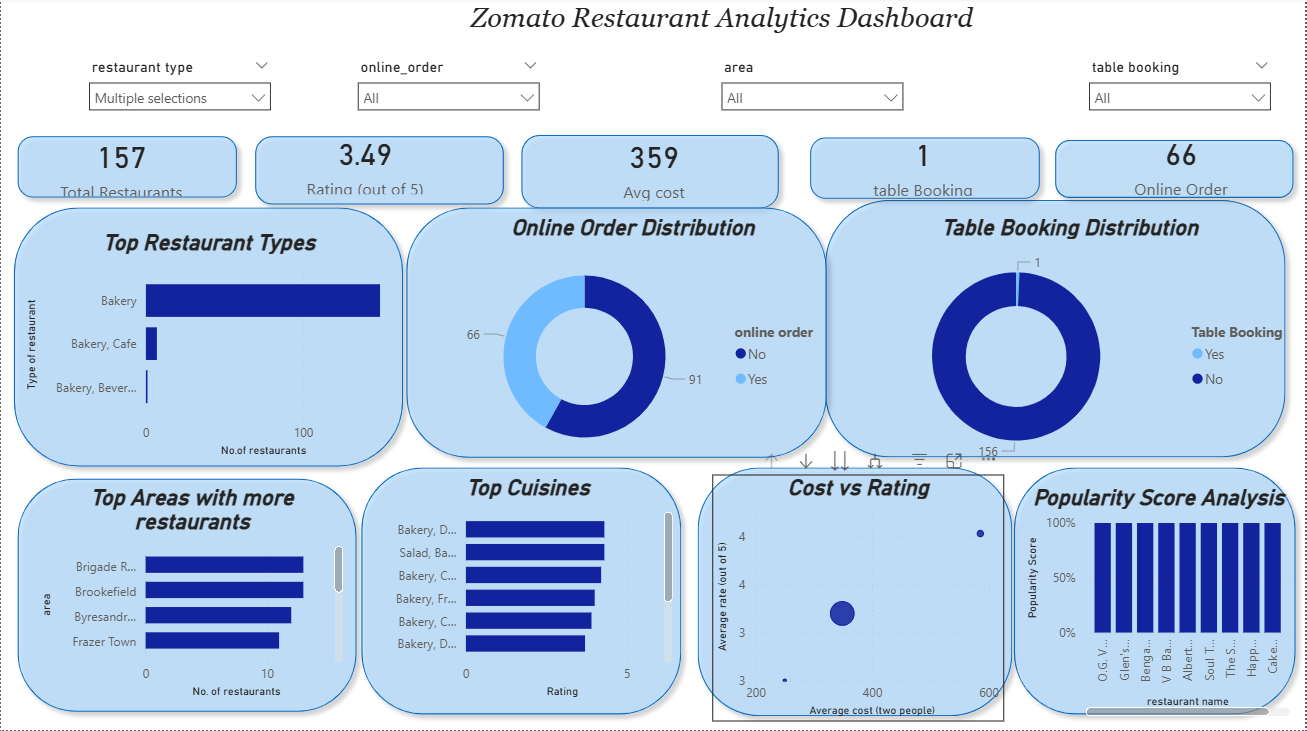

The dashboard page shown, as its layout file describes it:
{"tool":"powerbi","page":{"name":"Zomato Analytics Dashboard","canvas":[1280,720],"ordinal":0},"visuals":[{"type":"group","id":"g1","title":"Group 1","box":[3.4,126.5,1275.9,588.3],"z":1000},{"type":"barChart","title":"Most Common Restaurant Types","fields":{"Y":["CountNonNull(cleaned_zomato.restaurant name)"],"Category":["cleaned_zomato.restaurant type"]},"box":[20,228.1,369.2,228.1],"z":4000},{"type":"donutChart","title":"Restaurants Offering Online Orders","fields":{"Category":["cleaned_zomato.online_order"],"Y":["CountNonNull(cleaned_zomato.restaurant name)"]},"box":[420.5,213.8,399.1,255.1],"z":5000},{"type":"donutChart","title":"Restaurants Offering Table Booking","fields":{"Category":["cleaned_zomato.table booking"],"Y":["CountNonNull(cleaned_zomato.restaurant name)"]},"box":[819.6,213.8,459,255.1],"z":7000},{"type":"barChart","title":"Areas with Highest Restaurant Density","fields":{"Category":["cleaned_zomato.area"],"Y":["CountNonNull(cleaned_zomato.restaurant name)"]},"box":[34.2,478.9,306.5,213.8],"z":9000},{"type":"shape","box":[800,190.6,469.8,270.6],"z":10000,"group":"g1"},{"type":"barChart","title":"Most Popular Cuisines","fields":{"Y":["Median(cleaned_zomato.rate (out of 5))"],"Category":["cleaned_zomato.cuisines type"]},"box":[370.6,469,293.6,223.8],"z":10000},{"type":"shape","box":[6.8,464.5,350.6,246.8],"z":10500,"group":"g1"},{"type":"shape","box":[1025.7,131.6,251.9,74.9],"z":11000,"group":"g1"},{"type":"scatterChart","title":"Relationship Between Cost and Rating","fields":{"X":["Avg(cleaned_zomato.avg cost (two people))"],"Category":["cleaned_zomato.restaurant type","cleaned_zomato.restaurant name"],"Y":["Avg(cleaned_zomato.rate (out of 5))"],"Size":["CountNonNull(cleaned_zomato.num of ratings)"]},"box":[698.4,469,286.5,242.3],"z":11000},{"type":"shape","box":[6.8,127.6,233.2,78.3],"z":12000,"group":"g1"},{"type":"clusteredColumnChart","title":"Top 10 Most Popular Restaurants","fields":{"Category":["cleaned_zomato.restaurant name"],"Y":["cleaned_zomato.Popularity Score Measure"]},"box":[1002,478.9,268,232.3],"z":12000},{"type":"textbox","box":[449.4,0,517.4,69.8],"z":13000},{"type":"shape","box":[784.7,129.3,243.4,78.3],"z":13000,"group":"g1"},{"type":"slicer","fields":{"Values":["cleaned_zomato.area"]},"box":[697.1,54.9,199,76.8],"z":14000},{"type":"shape","box":[240,127.6,262.1,85.1],"z":14000,"group":"g1"},{"type":"shape","box":[3.4,197.3,400,272.3],"z":14500,"group":"g1"},{"type":"slicer","fields":{"Values":["cleaned_zomato.table booking"]},"box":[1058,54.9,199,76.8],"z":15000},{"type":"shape","box":[501.4,126.5,270.6,90.2],"z":15000,"group":"g1"},{"type":"shape","box":[675.1,452.7,326.8,262.1],"z":15250,"group":"g1"},{"type":"shape","box":[344.8,452.7,331.9,260.4],"z":15500,"group":"g1"},{"type":"shape","box":[984.8,452.7,294.5,260.4],"z":15750,"group":"g1"},{"type":"slicer","fields":{"Values":["cleaned_zomato.online_order"]},"box":[340.3,54.9,199,76.8],"z":16000},{"type":"shape","box":[389.1,197.3,430.6,263.8],"z":16000,"group":"g1"},{"type":"card","fields":{"Values":["Count(cleaned_zomato.restaurant name)"]},"box":[1049.1,126.4,198.8,74.8],"z":17000},{"type":"card","fields":{"Values":["Count(cleaned_zomato.restaurant name)"]},"box":[785.3,116.6,240.5,84.7],"z":18000},{"type":"card","fields":{"Values":["Avg(cleaned_zomato.avg cost (two people))"]},"box":[498.2,116.6,287.1,89.6],"z":19000},{"type":"card","fields":{"Values":["CountNonNull(cleaned_zomato.restaurant name)"]},"box":[0,116.6,236.8,84.7],"z":20000},{"type":"card","fields":{"Values":["Avg(cleaned_zomato.rate (out of 5))"]},"box":[236.8,116.6,241.7,82.2],"z":21000},{"type":"slicer","fields":{"Values":["cleaned_zomato.restaurant type"]},"box":[75.5,54.9,199,76.8],"z":22000}]}

Visuals, with their boxes in screenshot pixels (x1, y1, x2, y2), scaled from the page's 1280x720 canvas onto the 1307x731 screenshot:
"Group 1" group: 3 128 1306 726
"Most Common Restaurant Types" barChart: 20 232 397 463
"Restaurants Offering Online Orders" donutChart: 429 217 837 476
"Restaurants Offering Table Booking" donutChart: 837 217 1306 476
"Areas with Highest Restaurant Density" barChart: 35 486 348 703
shape: 817 194 1297 468
"Most Popular Cuisines" barChart: 378 476 678 703
shape: 7 472 365 722
shape: 1047 134 1305 210
"Relationship Between Cost and Rating" scatterChart: 713 476 1006 722
shape: 7 130 245 209
"Top 10 Most Popular Restaurants" clusteredColumnChart: 1023 486 1297 722
textbox: 459 0 987 71
shape: 801 131 1050 211
slicer - cleaned_zomato.area: 712 56 915 134
shape: 245 130 513 216
shape: 3 200 412 477
slicer - cleaned_zomato.table booking: 1080 56 1284 134
shape: 512 128 788 220
shape: 689 460 1023 726
shape: 352 460 691 724
shape: 1006 460 1306 724
slicer - cleaned_zomato.online_order: 347 56 551 134
shape: 397 200 837 468
card - Count(cleaned_zomato.restaurant name): 1071 128 1274 204
card - Count(cleaned_zomato.restaurant name): 802 118 1047 204
card - Avg(cleaned_zomato.avg cost (two people)): 509 118 802 209
card - CountNonNull(cleaned_zomato.restaurant name): 0 118 242 204
card - Avg(cleaned_zomato.rate (out of 5)): 242 118 489 202
slicer - cleaned_zomato.restaurant type: 77 56 280 134
